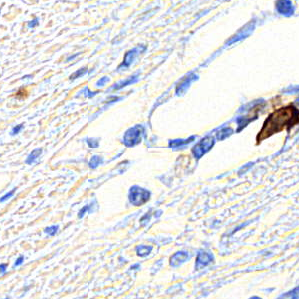Lymphocyte: (257, 105, 298, 140)
